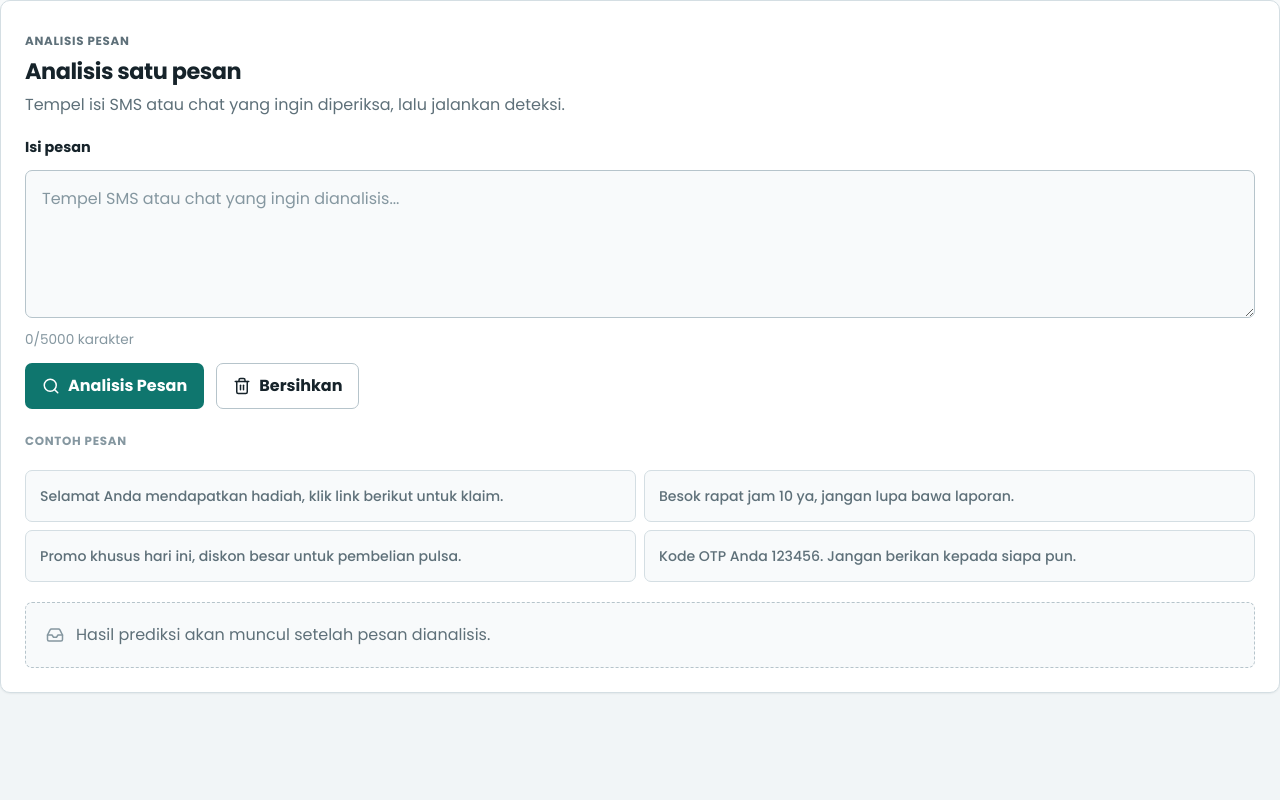
Scenario: MessageAnalyzer › validates empty message
Click the button "Analisis Pesan": (115, 386) x1=25 y1=362 x2=204 y2=408
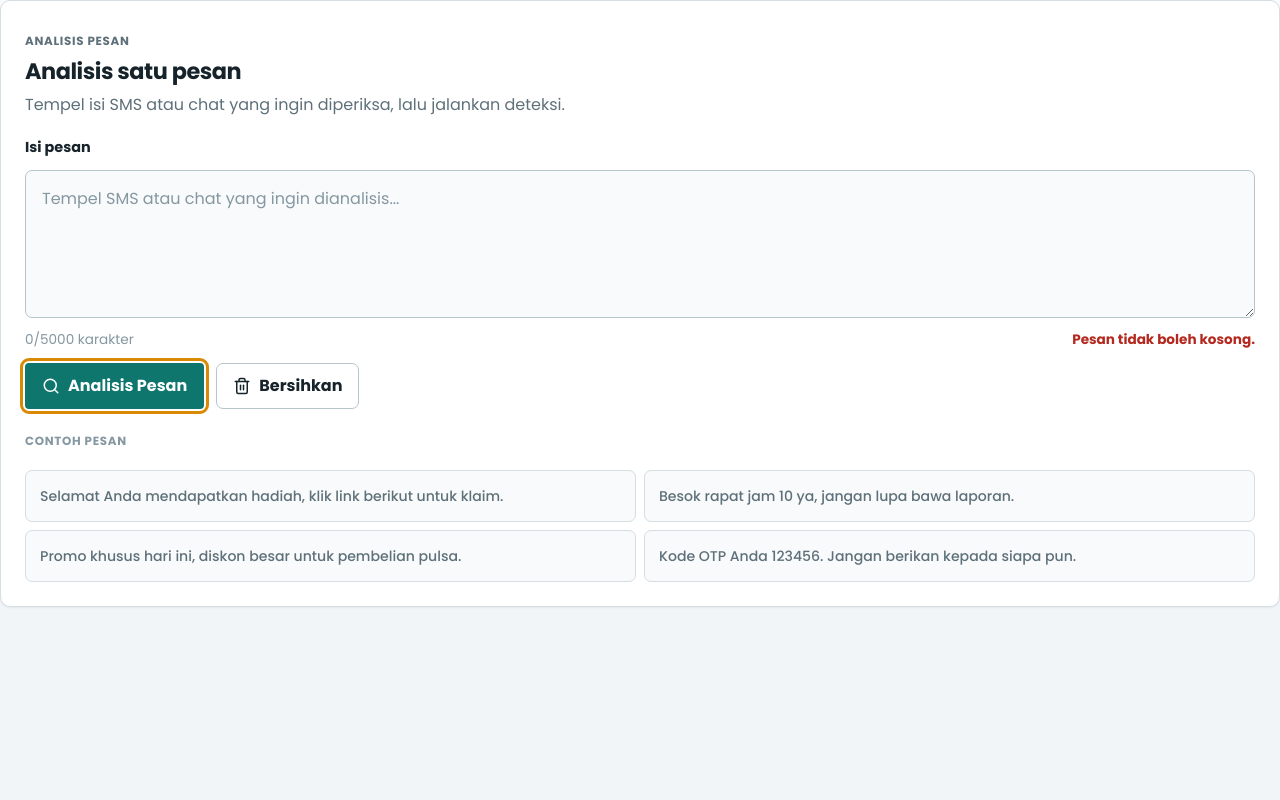
Check: the message reads "Pesan tidak boleh kosong.", box x1=1072 y1=330 x2=1255 y2=349
